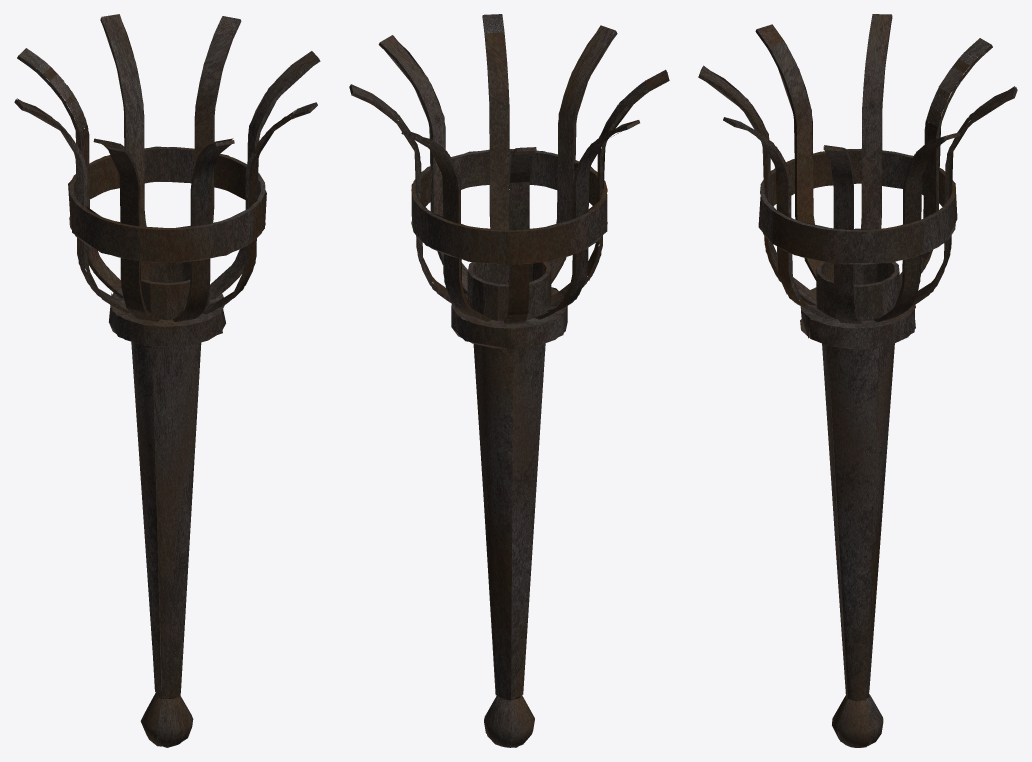
The picture shows the model from 3 angles, left to right: view 1: azimuth 30°, elevation 25°; view 2: azimuth 150°, elevation 25°; view 3: azimuth 270°, elevation 25°; orthographic projection.
Visible parts, largest first — view 1: torch001; view 2: torch001; view 3: torch001.
Part boxes in pixels (x1,y1,x2,y2): torch001: (14,14,320,747); torch001: (349,14,669,747); torch001: (698,14,1017,747).
Size of the model in its own units: 58.91 by 135 by 58.91.
